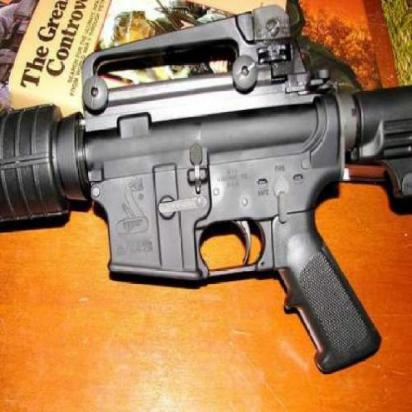Gun: (0, 7, 402, 363)
